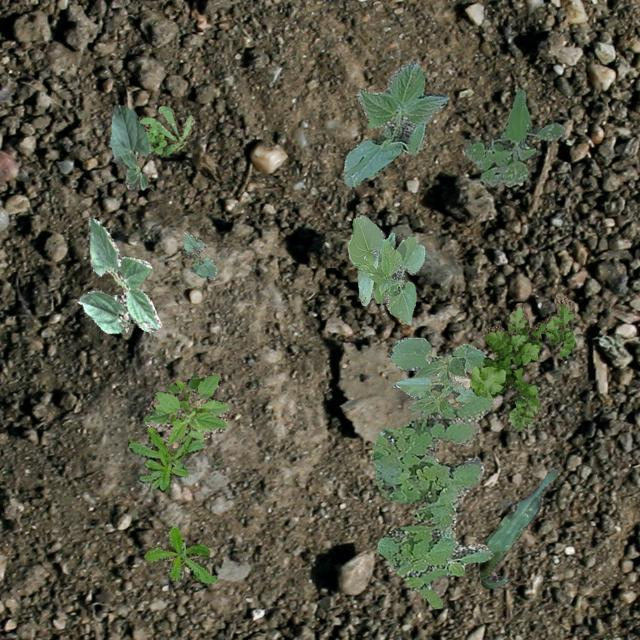crop: (342, 61, 448, 186), (76, 216, 160, 332), (478, 468, 556, 588), (388, 336, 494, 416), (348, 214, 424, 324), (109, 102, 150, 188), (182, 230, 215, 278)
weed: (370, 394, 492, 608), (468, 292, 574, 431), (461, 88, 564, 186), (142, 372, 228, 448), (126, 426, 204, 490), (144, 524, 216, 584), (138, 106, 194, 154)
